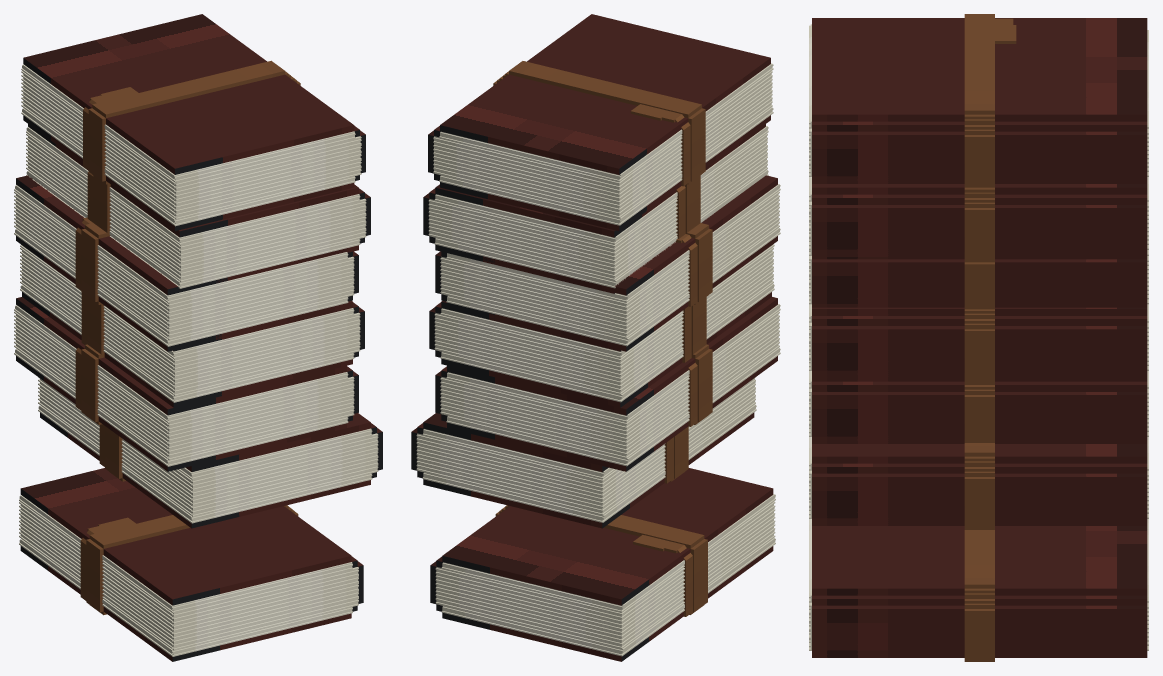
The model's file is stack_of_books_7_4.gltf.
The picture shows the model from 3 angles, left to right: view 1: azimuth 30°, elevation 25°; view 2: azimuth 150°, elevation 25°; view 3: azimuth 270°, elevation 25°; orthographic projection. The views are drawn at different scales.
Parts seen in each view (by area): view 1: cube (×154); view 2: cube (×202); view 3: cube (×42).
Boxes of the visible parts, x1,y1,x2,y2 form: cube (×154): (14,14,378,661); cube (×202): (416,14,780,661); cube (×42): (812,14,1147,657).
Bounding box in the file's own units: 0.5813 × 1.25 × 0.6969.
Materials: 3 (3 with a texture image).
